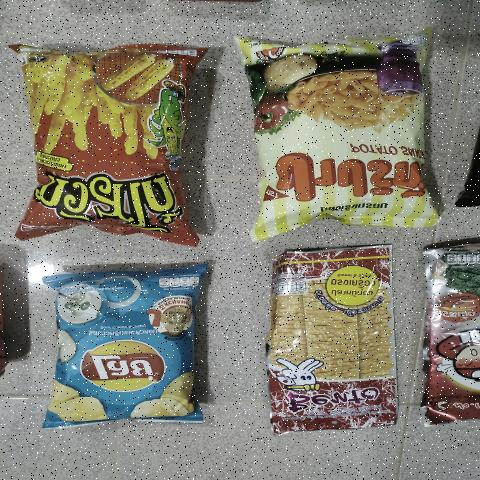bento_red: (277, 248, 395, 429)
lay_blue: (53, 277, 192, 423)
paprika: (252, 39, 420, 232)
twisco: (29, 61, 191, 236)
